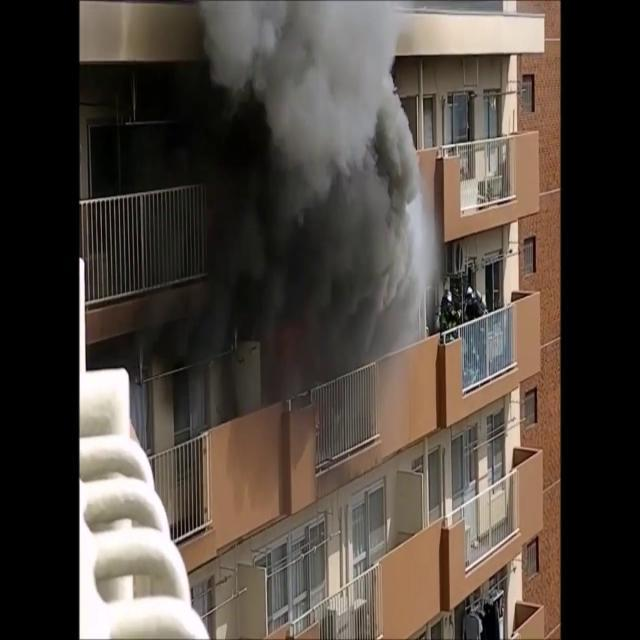Smoke: (139, 1, 434, 450)
